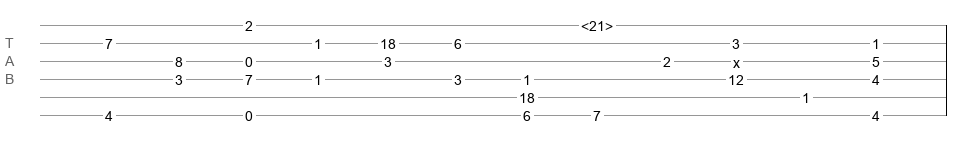0: (245, 54, 253, 64), (245, 108, 253, 118)
1: (314, 72, 322, 82), (314, 36, 322, 46), (523, 72, 531, 82), (802, 90, 810, 100), (872, 36, 880, 46)
12: (728, 72, 744, 82)
18: (380, 36, 396, 46), (519, 90, 535, 100)
2: (245, 18, 253, 28), (663, 54, 671, 64)
3: (175, 72, 183, 82), (384, 54, 392, 64), (454, 72, 462, 82), (732, 36, 740, 46)
4: (105, 108, 113, 118), (872, 72, 880, 82), (872, 108, 880, 118)
5: (872, 54, 880, 64)
6: (454, 36, 462, 46), (523, 108, 531, 118)
7: (105, 36, 113, 46), (245, 72, 253, 82), (593, 108, 601, 118)
8: (175, 54, 183, 64)
harmonic: (581, 18, 613, 28)
x: (733, 55, 740, 63)
